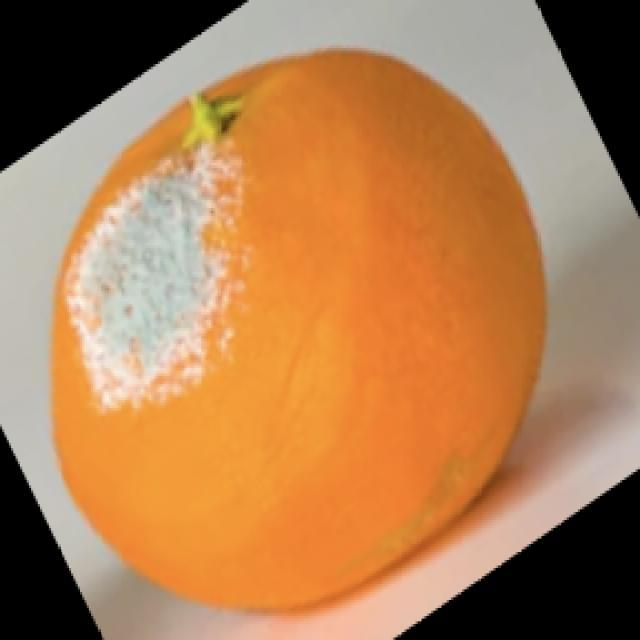sedikit-busuk: (63, 100, 238, 410)
